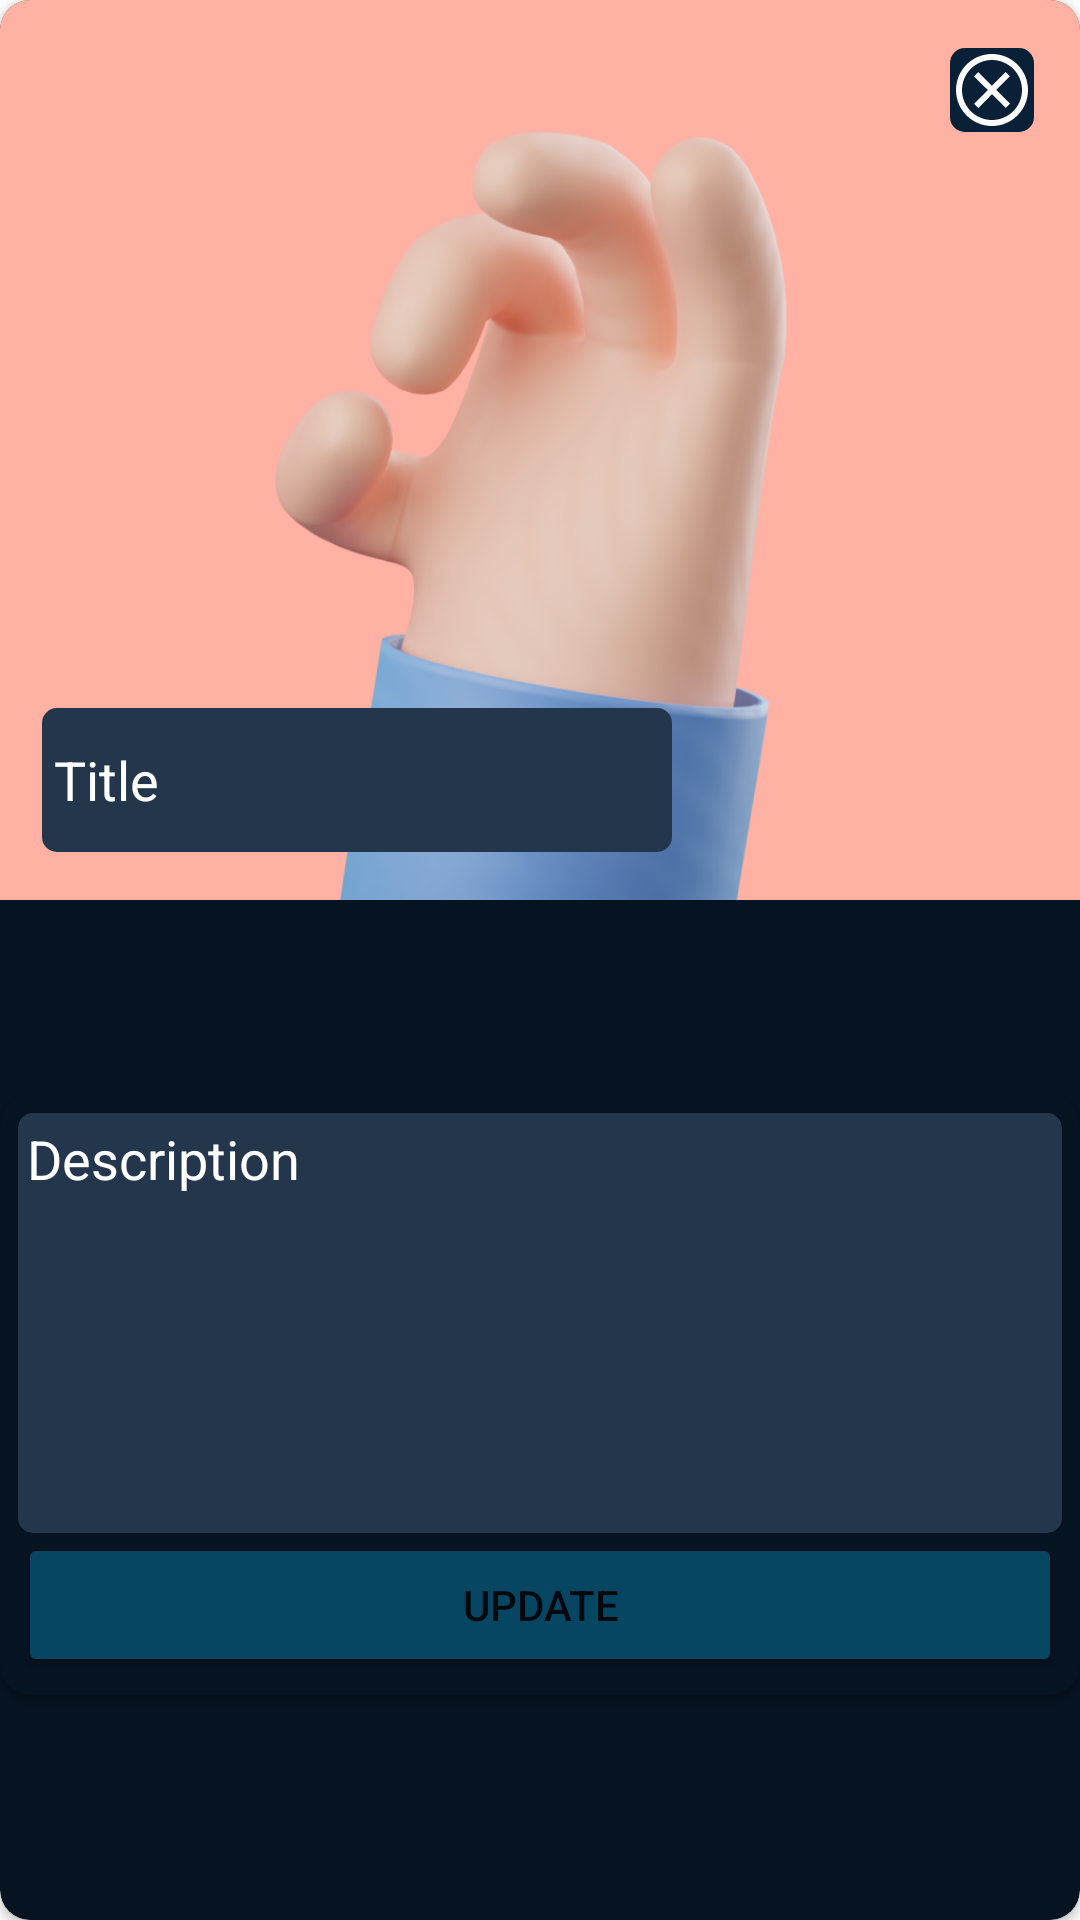

Icons on this 1080px×1920px Android screen, each with the point to tap as point (x, y):
delete: point (992, 90)
